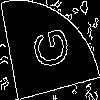G: (25, 25, 70, 73)
